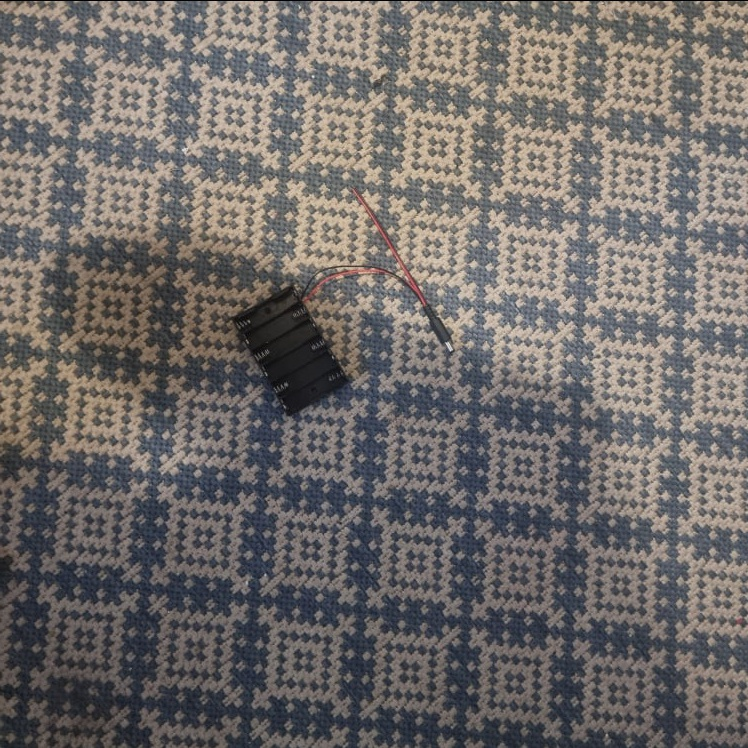BATTERY BOX: (230, 284, 348, 417)
